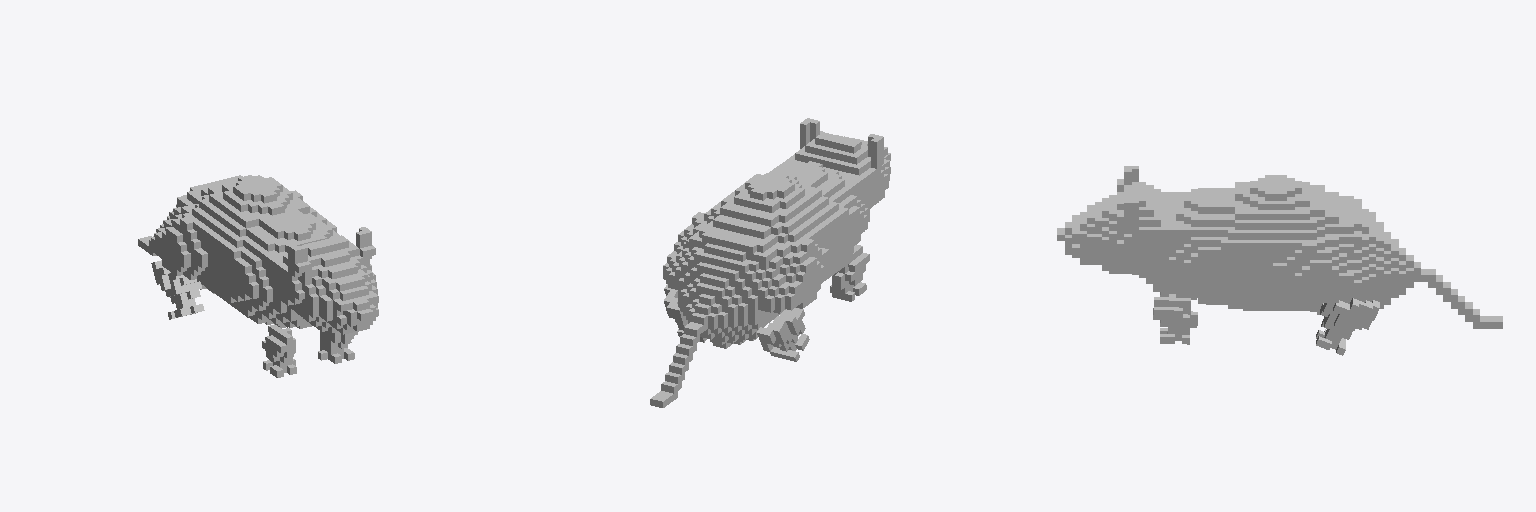
Rendered from Mouse_static.obj.
3 renders of one model, left to right at view 1: azimuth 30°, elevation 25°; view 2: azimuth 150°, elevation 25°; view 3: azimuth 270°, elevation 25°, orthographic.
Visible parts, largest first — view 1: mouse; view 2: mouse; view 3: mouse.
Part boxes in pixels (x1,y1,x2,y2): mouse: (138, 175, 378, 377); mouse: (650, 118, 890, 407); mouse: (1057, 166, 1502, 355).
Bounding box in the file's own units: 1.22 × 1.3 × 3.66.